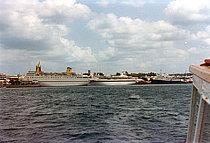Ship: (32, 65, 92, 88), (95, 68, 141, 88)
